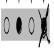correct: (16, 16, 22, 35)
not correct: (38, 3, 50, 48)
